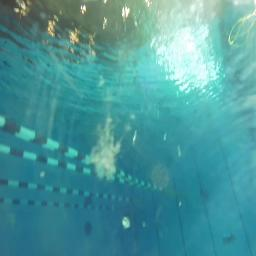Full: (220, 232, 236, 244)
